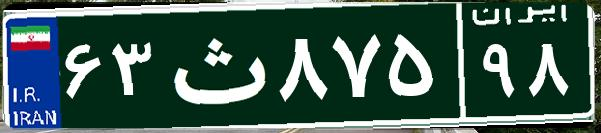3: (110, 28, 158, 105)
5: (385, 28, 445, 110)
6: (57, 26, 110, 107)
7: (330, 28, 385, 110)
8: (273, 28, 330, 110), (525, 38, 570, 115)
9: (475, 38, 525, 113)
ث: (158, 15, 273, 115)
